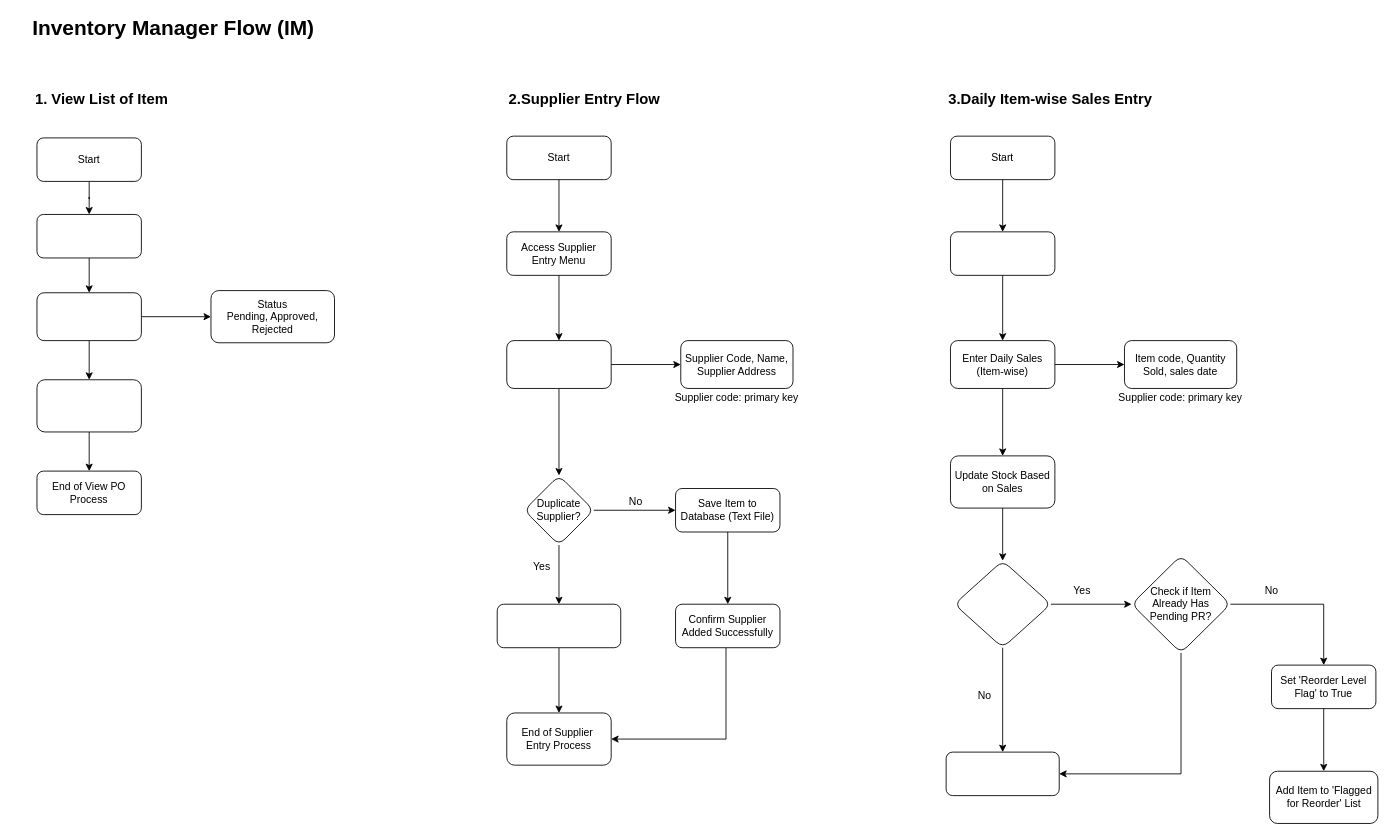
The diagram is 1393 pixels wide and 839 high, and some of its shapes have lost their labels. Each missing label, with the box of its shape:
Access Daily update m enu: (950, 231, 1055, 275)
Access Display PO m enu: (36, 214, 141, 258)
End of Daily sales update process: (945, 751, 1059, 796)
Enter Supplier Details: (506, 340, 611, 388)
Item Stock ≤ ROL?: (954, 560, 1051, 648)
Notify duplicate item, not adding again: (496, 603, 621, 648)
View List of POs: (36, 292, 141, 341)
View PO Details (PO ID, Supplier, Items, Quantity, Status): (36, 379, 141, 432)
